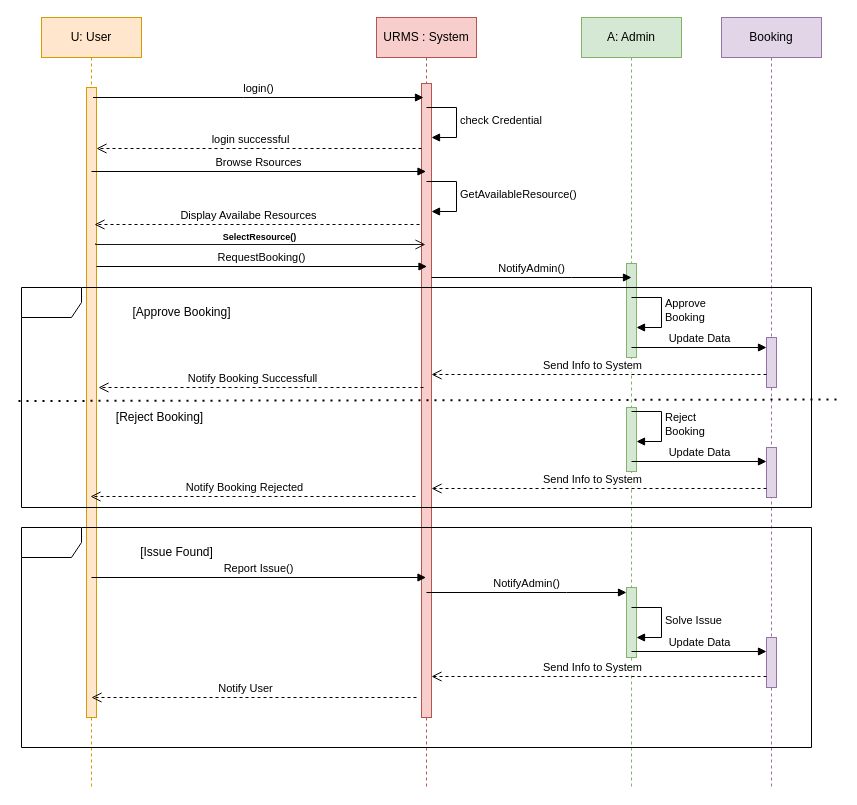
Some shapes in this 857 by 805 pixel diagram are drawn without their labels. The shapes that lost their labels are listed below. From the top down, each one's box as (x1, y1, x2, y2) in pixels, then its label:
(20, 286, 812, 508): ALT
(20, 526, 812, 748): OPT
